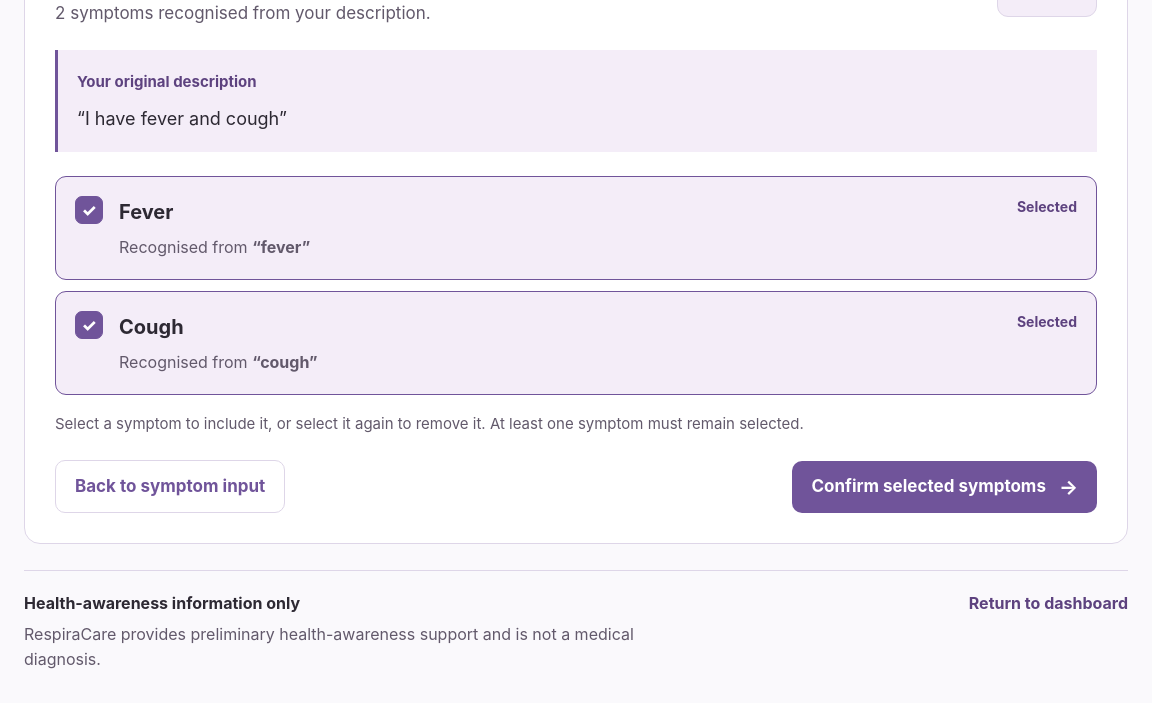
Test: Symptom confirmation workflow › sends only selected symptoms to the backend
This screenshot has width=1152, height=703.
(page scrolled)
Step 1. Click the button "✓ Cough Recognised from “cough” Selected" → coordinates (151, 327), box [55, 291, 1097, 395]
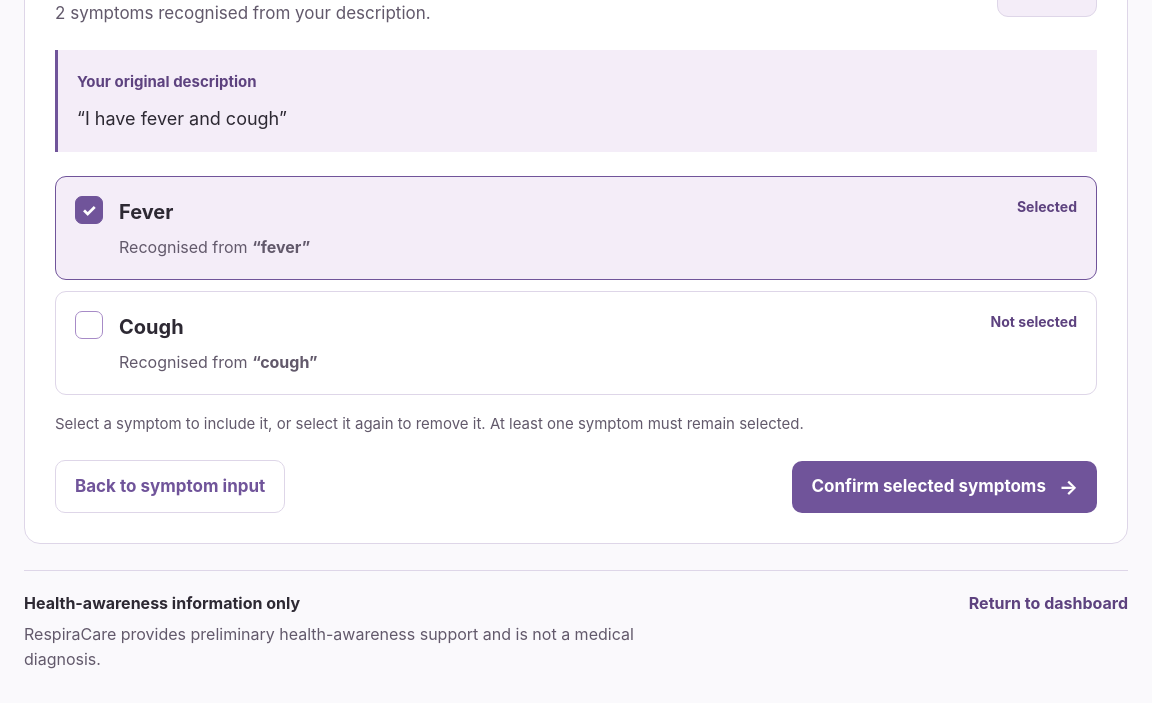
Step 2. Click the button "Confirm selected symptoms →" → coordinates (945, 487), box [792, 461, 1097, 513]
(page scrolled)
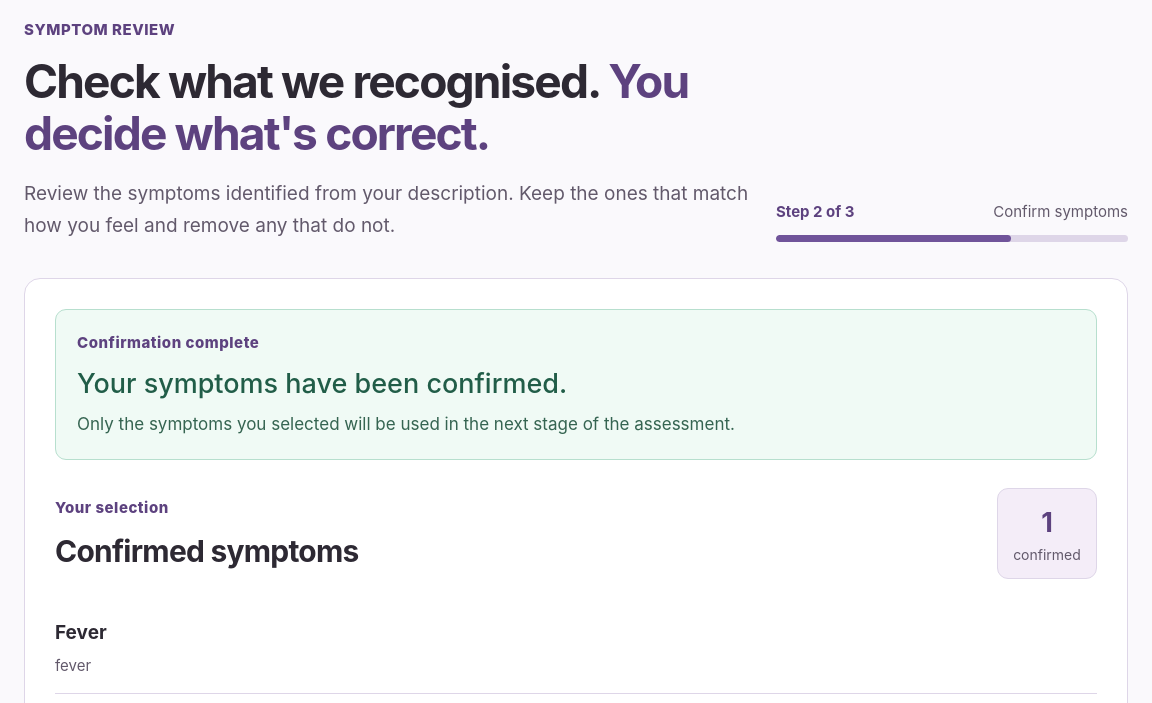
Expected: the text "Confirmation complete" is shown, [77, 333, 259, 352]
